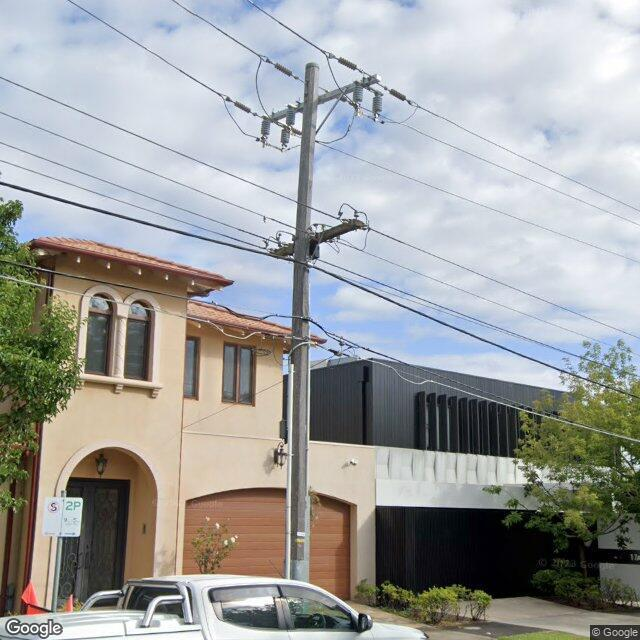HV-transmission: (218, 50, 412, 152)
crossarm: (271, 74, 380, 120), (269, 219, 365, 256)
timber-pole: (290, 62, 320, 583)
